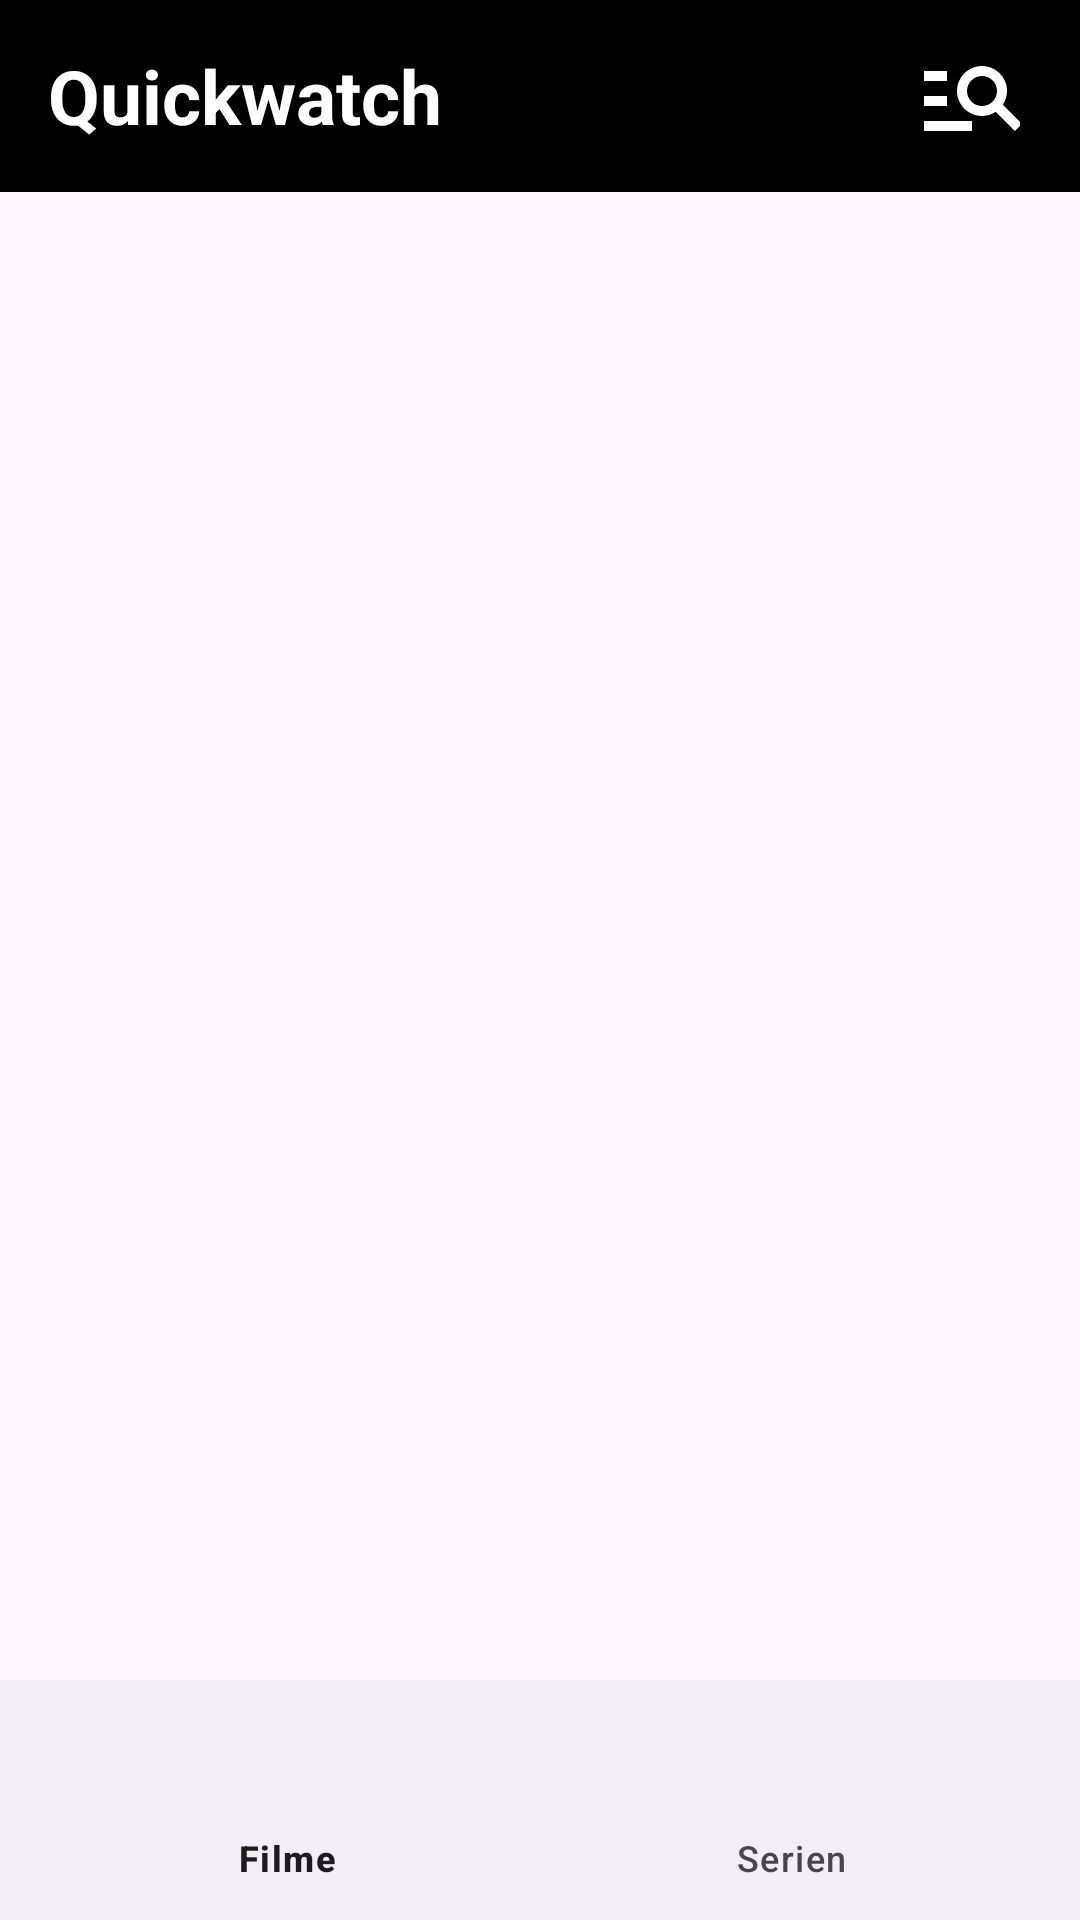

Named icons in this screenshot (1080px×1920px) and their bounding boxes, (x1, y1, x2, y2):
manage search: (924, 66, 1020, 131)
